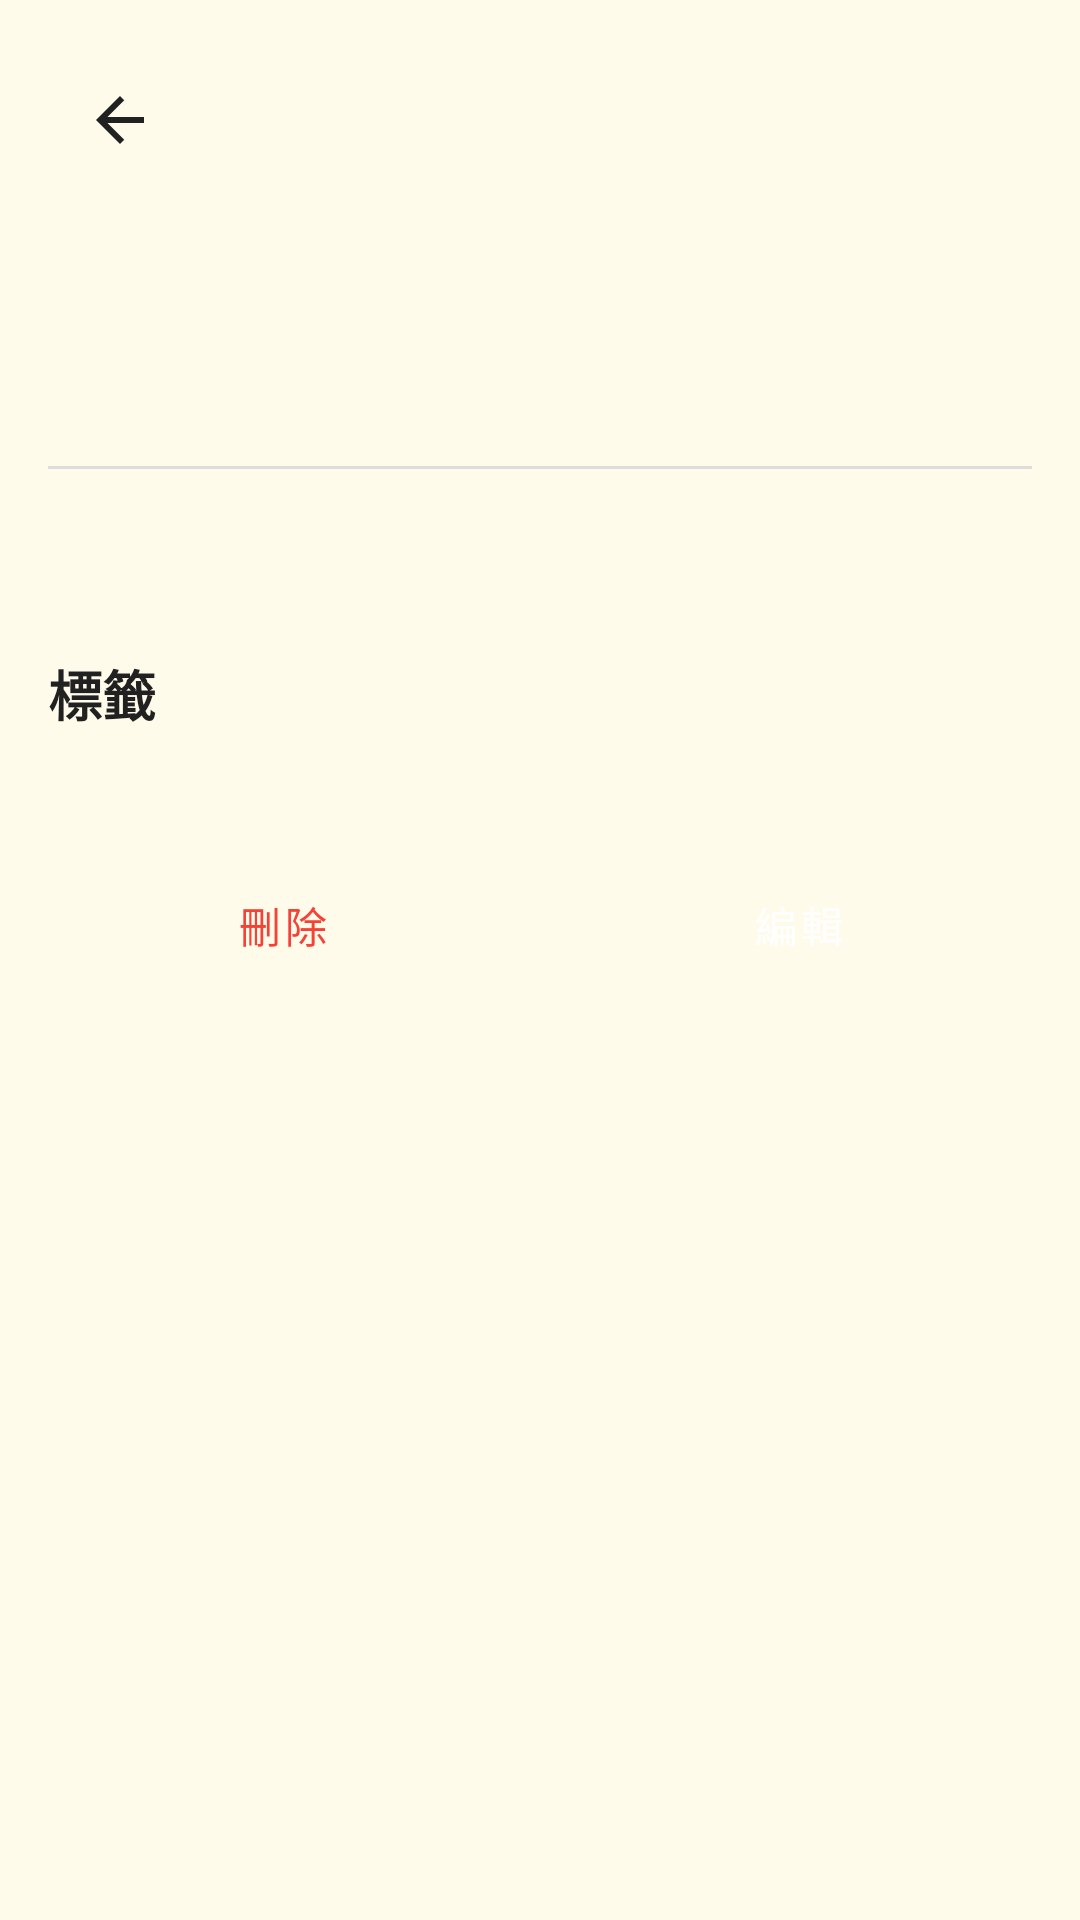

Icons on this 1080px x 1920px Android screen, each with its box as (left=x1, top=y1, right=x2, bottom=y2):
返回: (left=96, top=96, right=144, bottom=144)
